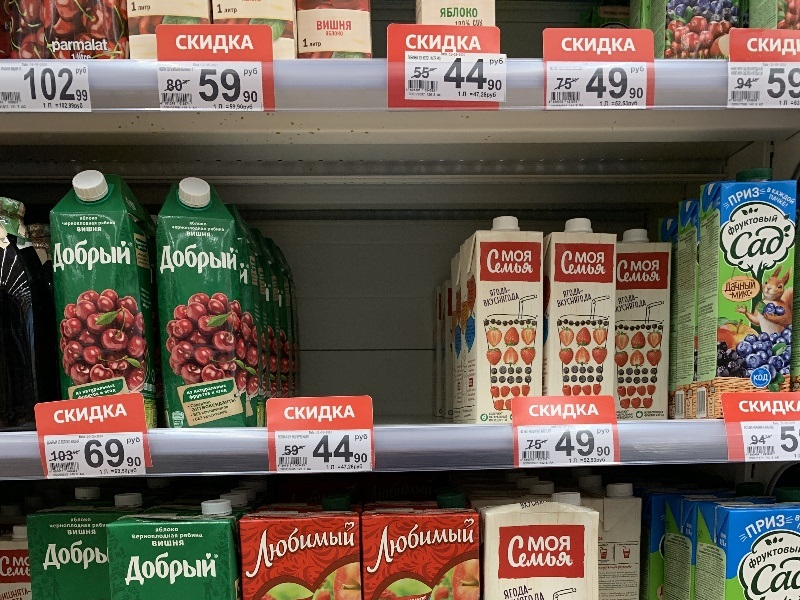juice: (47, 165, 164, 409), (153, 172, 246, 437), (700, 161, 795, 393)
